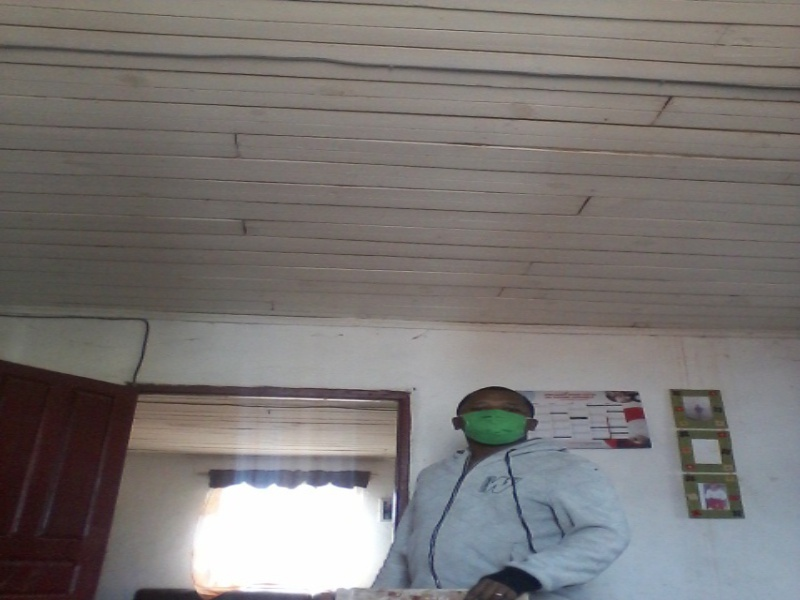ManaoArotava: (447, 369, 547, 465)
